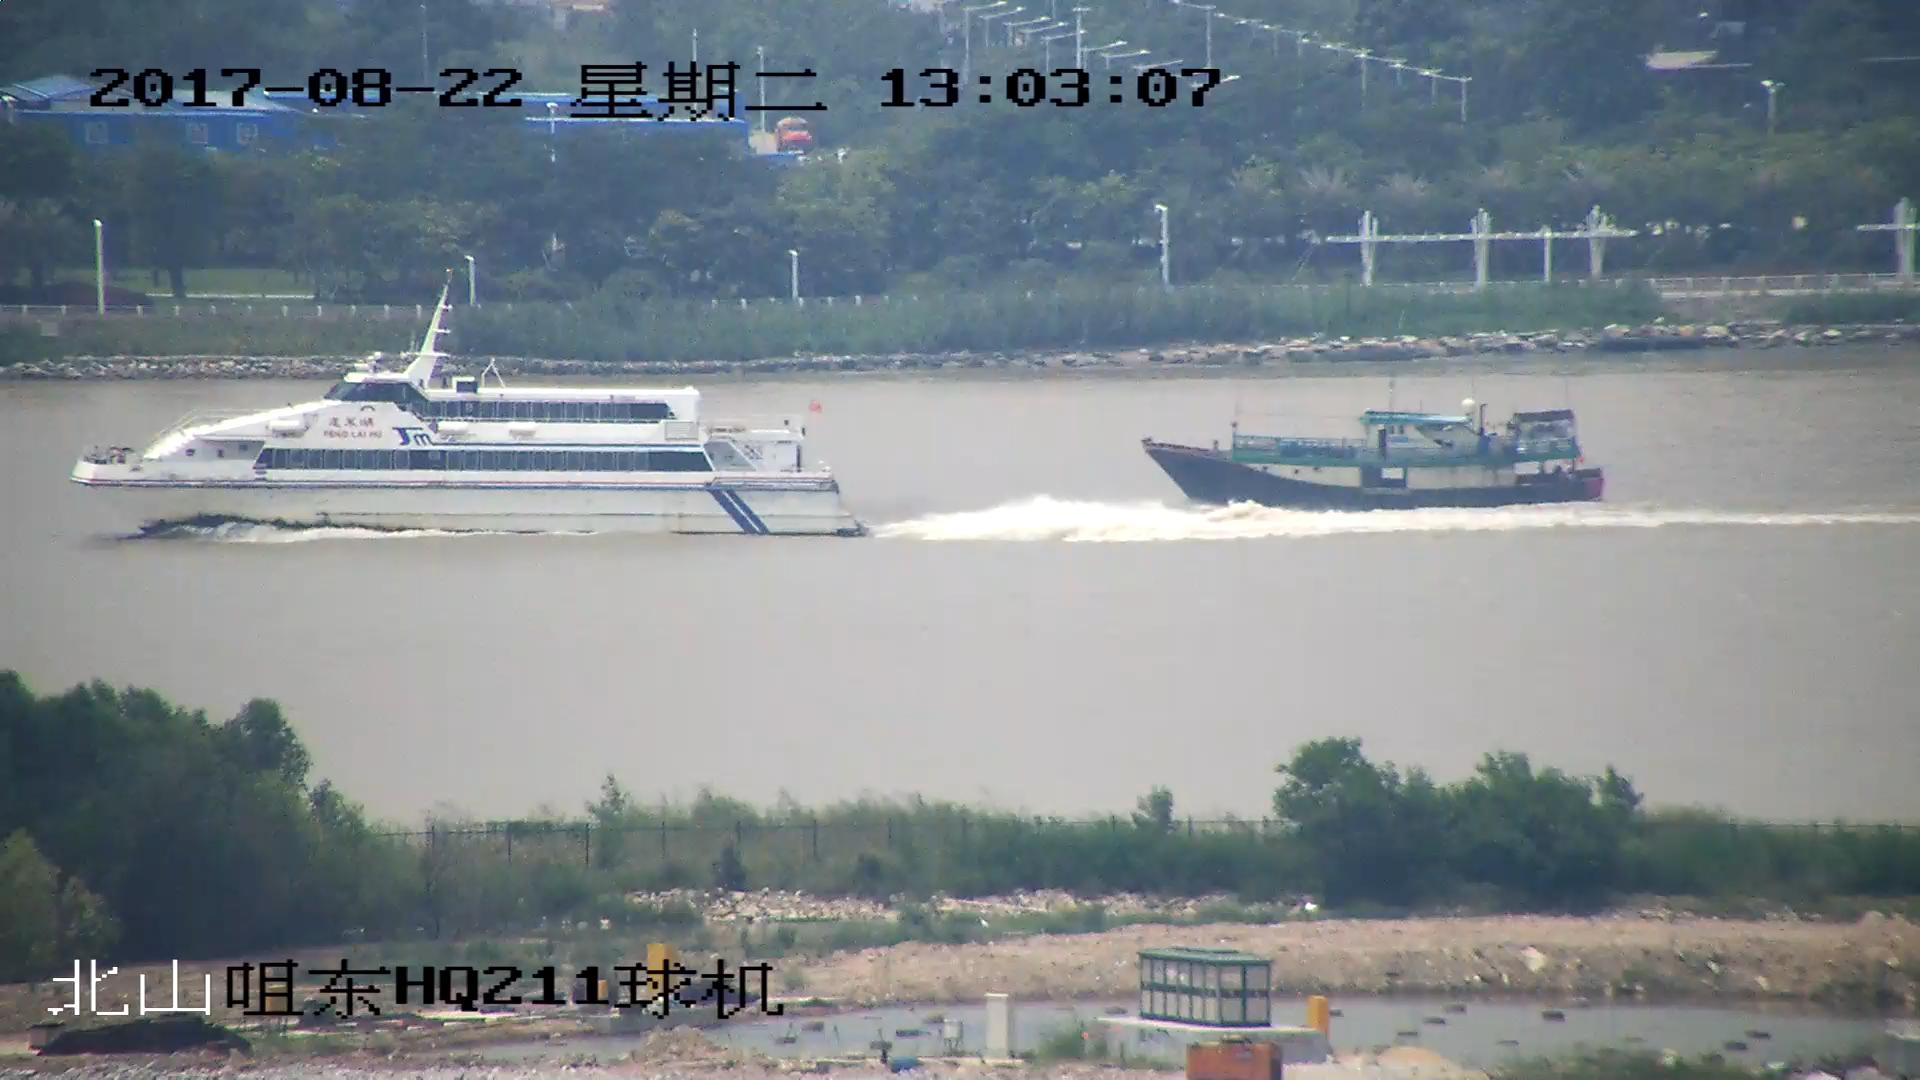fishing boat: (1144, 399, 1608, 513)
passenger ship: (70, 275, 870, 541)
